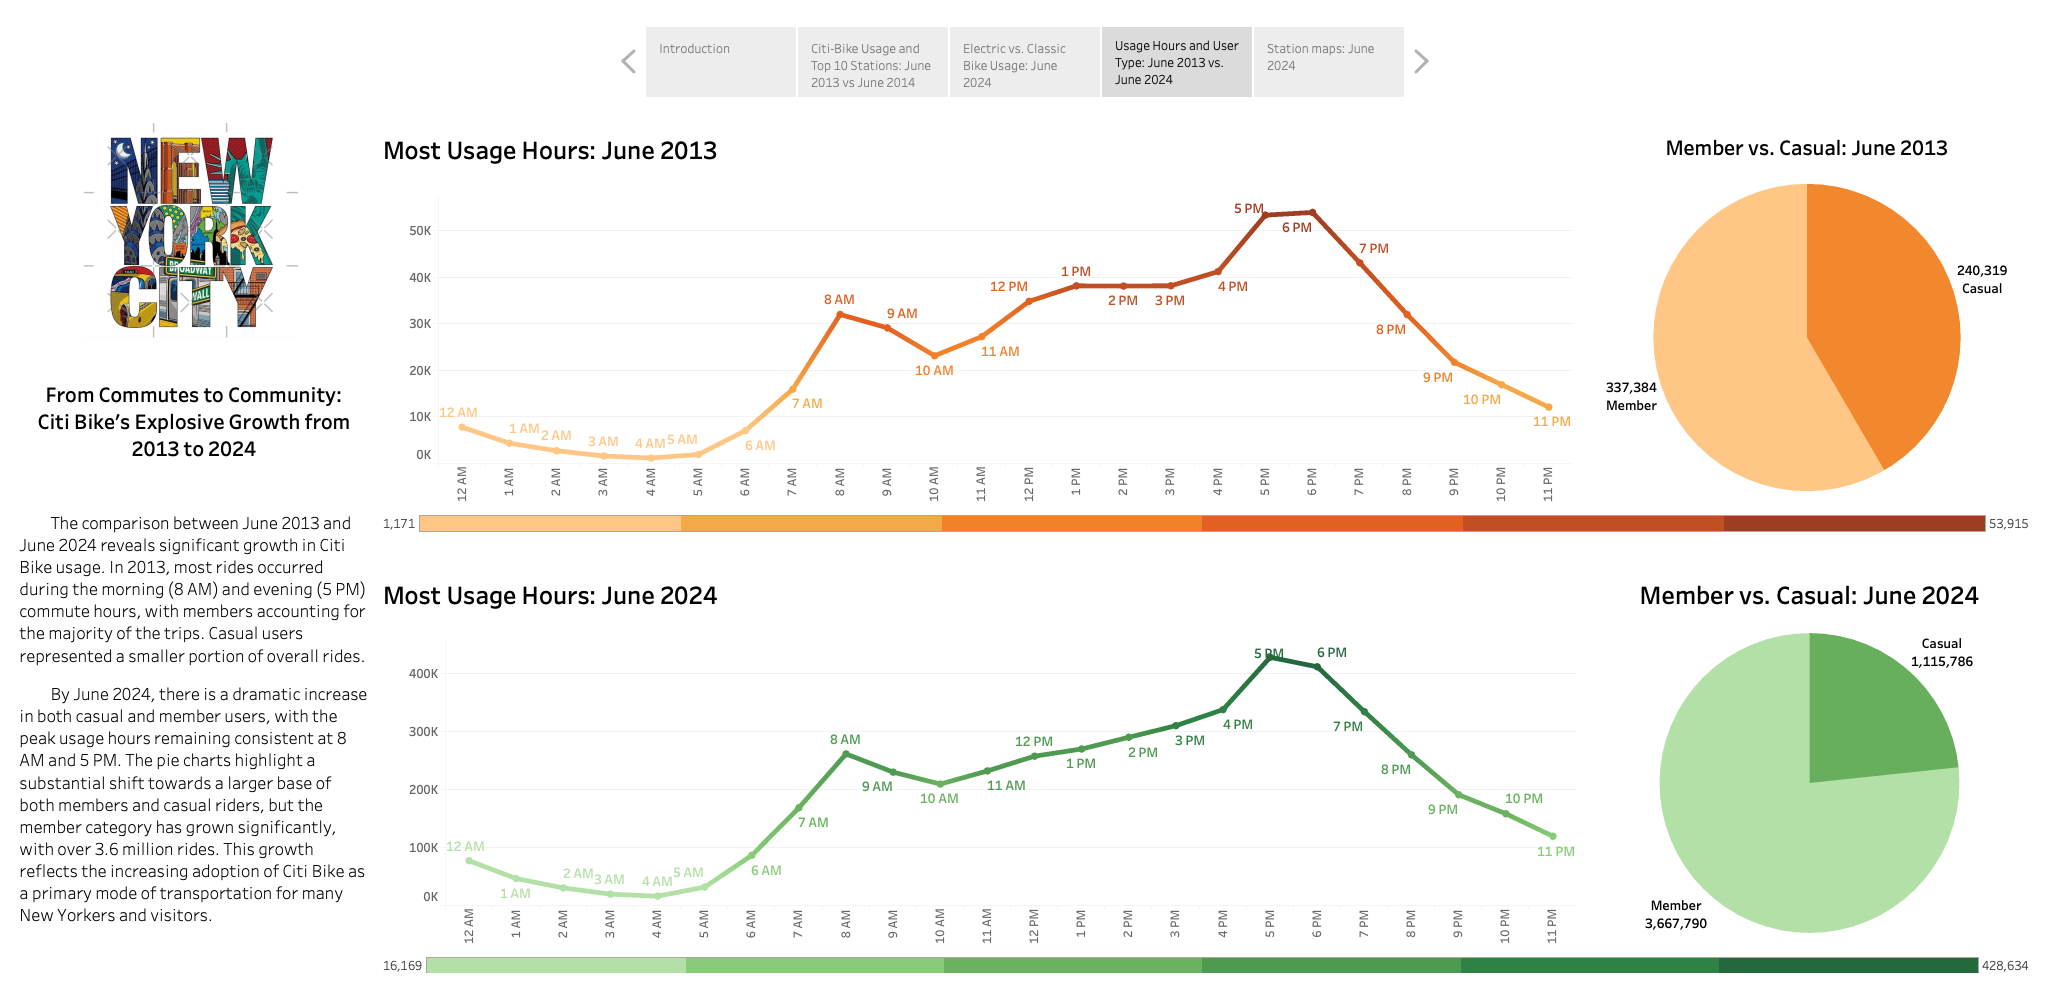

Layout of this report page (visuals, bound fields, positions):
{"tool":"tableau","page":{"name":"Most Usage Hours","canvas":[1000,1000],"units":"permille","ordinal":4},"visuals":[{"type":"image","param":"/Users/sanemini/Desktop/Tableau_Homework/Images/flat,750x,075,f-pad,750x1000,f8f","box":[28.7,7,124.5,248.2]},{"type":"text","box":[3.9,8,177.4,983.9]},{"type":"worksheet","title":"Most Usage Hours: June 2013","mark":"Automatic","rows":["201306_citibike_tripdata_cleaned.csv_BC900B62ABEB422AB8A0420"],"cols":["starttime"],"box":[181.3,8,588.2,441.2]},{"type":"worksheet","title":"Member vs. Casual: June 2013","mark":"Pie","box":[769.6,8,226.5,441.2]},{"type":"legend","title":"Most Usage Hours: June 2013","param":"[federated.0qngb0v0j2w2li17ee3p51pztz2n].[__tableau_internal_object_id__].[cnt:2","box":[181.3,449.2,814.8,70.4]},{"type":"worksheet","title":"Most Usage Hours: June 2024","mark":"Automatic","rows":["202406_citibike_tripdata_all.csv_ADB4D1CA7B0349009A6A58890E7"],"cols":["started_at"],"box":[181.3,521.6,590.7,438.2]},{"type":"worksheet","title":"Member vs. Casual: June 2024","mark":"Pie","box":[772,521.6,224.1,438.2]},{"type":"legend","title":"Most Usage Hours: June 2024","param":"[federated.0qngb0v0j2w2li17ee3p51pztz2n].[__tableau_internal_object_id__].[cnt:2","box":[181.3,959.8,814.8,32.2]}]}

Visuals, with their boxes on the dashboard's canvas, which has no fixed pixel size, in thousandths of its width and height (x1, y1, x2, y2). These are canvas units, not pixel positions in the 2050x988 screenshot, which may show the page scaled, cropped or inside an application window:
image: {"x1": 29, "y1": 7, "x2": 153, "y2": 255}
text: {"x1": 4, "y1": 8, "x2": 181, "y2": 992}
"Most Usage Hours: June 2013" worksheet: {"x1": 181, "y1": 8, "x2": 770, "y2": 449}
"Member vs. Casual: June 2013" worksheet (Pie marks): {"x1": 770, "y1": 8, "x2": 996, "y2": 449}
"Most Usage Hours: June 2013" legend: {"x1": 181, "y1": 449, "x2": 996, "y2": 520}
"Most Usage Hours: June 2024" worksheet: {"x1": 181, "y1": 522, "x2": 772, "y2": 960}
"Member vs. Casual: June 2024" worksheet (Pie marks): {"x1": 772, "y1": 522, "x2": 996, "y2": 960}
"Most Usage Hours: June 2024" legend: {"x1": 181, "y1": 960, "x2": 996, "y2": 992}
